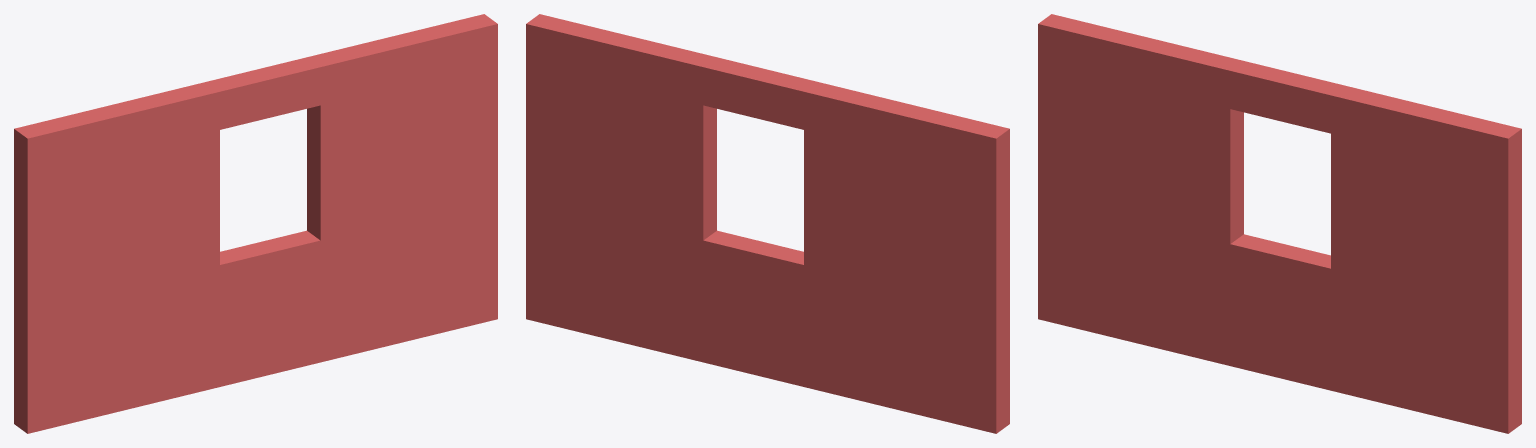
The model's file is wallSixMeters.fbx.
3 views of the same model, side by side, from view 1: azimuth 30°, elevation 25°; view 2: azimuth 150°, elevation 25°; view 3: azimuth 330°, elevation 25° (orthographic).
Visible parts, largest first — view 1: pCube2; view 2: pCube2; view 3: pCube2.
Part boxes in pixels (x1,y1,x2,y2): pCube2: [14, 14, 497, 433]; pCube2: [526, 14, 1009, 433]; pCube2: [1038, 14, 1521, 433].
Size of the model in its own units: 4000 by 2400 by 200.
